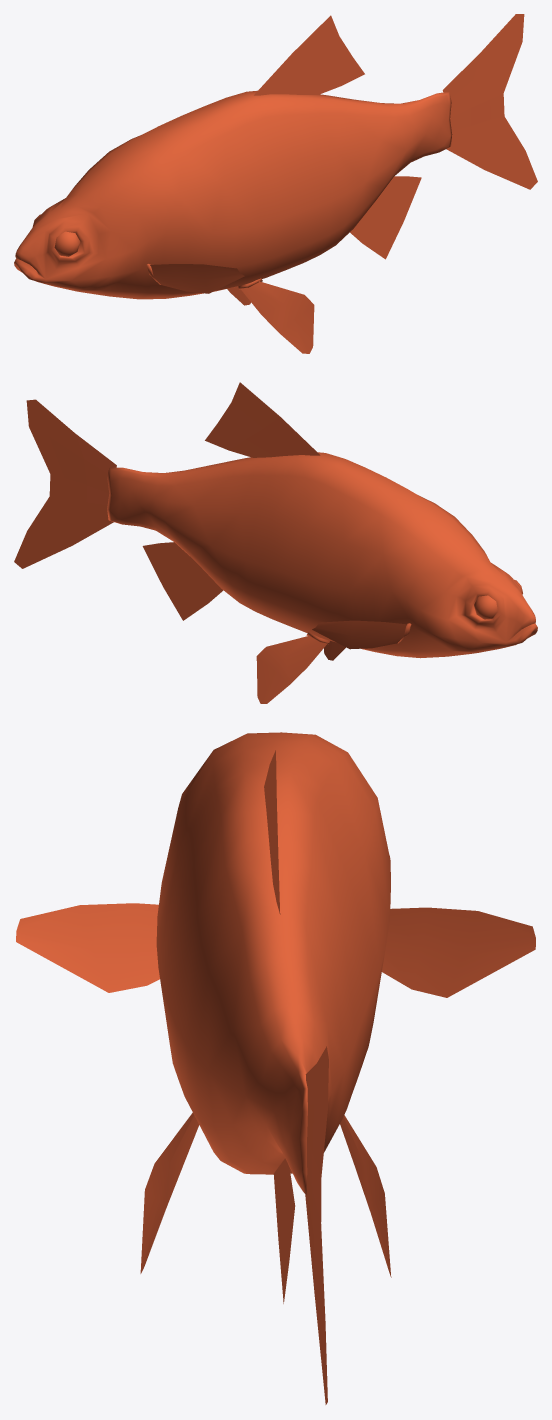
The model's file is scardinius.glb.
3 views of the same model, one above another, from view 1: azimuth 30°, elevation 25°; view 2: azimuth 150°, elevation 25°; view 3: azimuth 270°, elevation 25° (orthographic). The views are drawn at different scales.
Visible parts, largest first — view 1: mesh_id93, mesh_id94, mesh_id95; view 2: mesh_id93, mesh_id94, mesh_id95; view 3: mesh_id93, mesh_id94.
Part boxes in pixels (bbox=[...]): mesh_id93: bbox=[14, 90, 452, 299]; mesh_id94: bbox=[146, 14, 537, 353]; mesh_id95: bbox=[32, 214, 80, 256]; mesh_id93: bbox=[107, 452, 537, 658]; mesh_id94: bbox=[14, 382, 411, 703]; mesh_id95: bbox=[474, 579, 522, 619]; mesh_id93: bbox=[156, 732, 390, 1195]; mesh_id94: bbox=[16, 750, 535, 1404].
Bounding box in the file's own units: 0.2751 × 0.148 × 0.1206.
3 materials, 3 textured.
